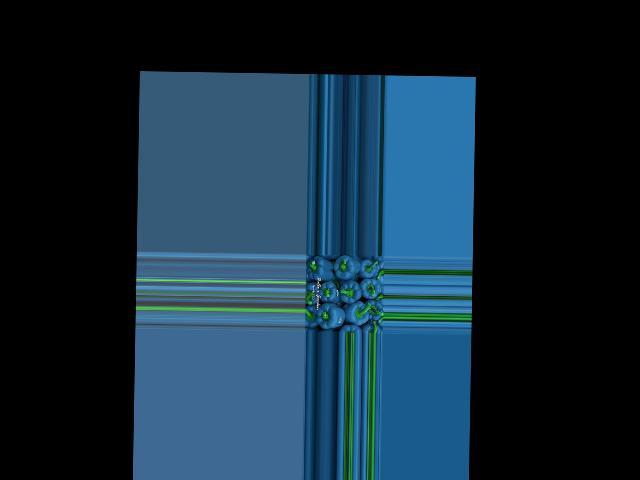bell_pepper: (304, 303, 321, 330)
